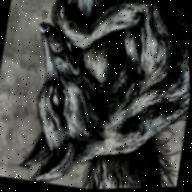boar: (12, 0, 192, 192)
